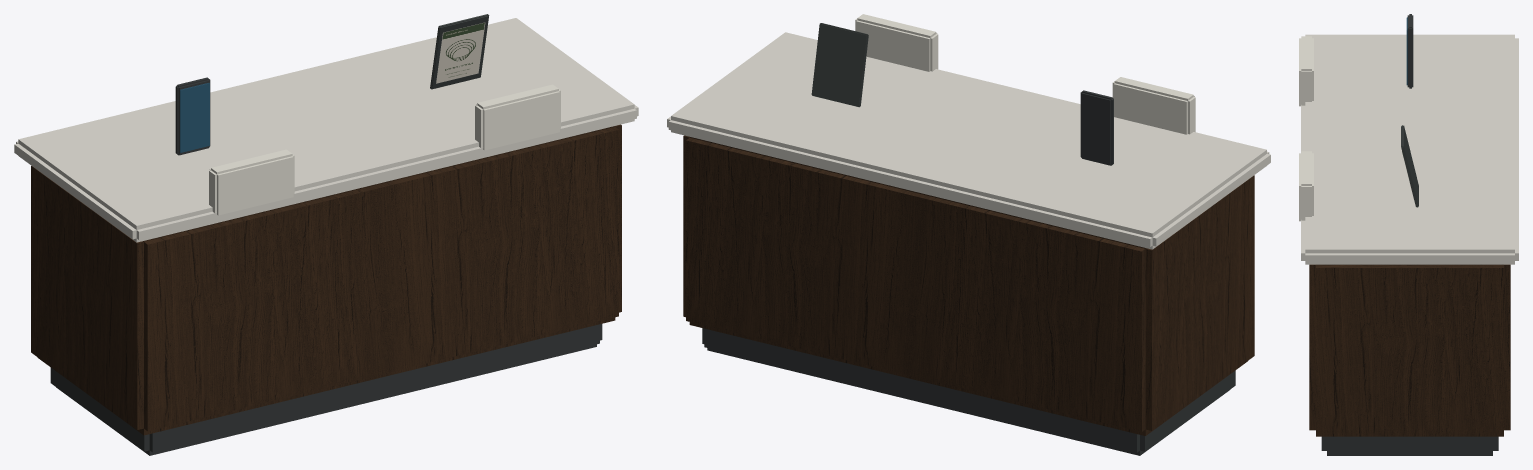
File: compact_mobile_v294.glb
3 views of the same model, side by side, from view 1: azimuth 30°, elevation 25°; view 2: azimuth 150°, elevation 25°; view 3: azimuth 270°, elevation 25° (orthographic). The views are drawn at different scales.
Visible parts, largest first — view 1: compact_mobile_v294_CC0_Smoked_walnut, compact_mobile_v294_Honed_solid_surface, compact_mobile_v294_Anodised_graphite, compact_mobile_v294_Paper_page_edges, compact_mobile_v294_V23_original_editorial, compact_mobile_v294_FY21_display_screen, compact_mobile_v294_V23_ceramic_graphite, compact_mobile_v294_Anodised_graphite.003; view 2: compact_mobile_v294_CC0_Smoked_walnut, compact_mobile_v294_Honed_solid_surface, compact_mobile_v294_Anodised_graphite, compact_mobile_v294_Paper_page_edges, compact_mobile_v294_V23_ceramic_graphite, compact_mobile_v294_Anodised_graphite.003; view 3: compact_mobile_v294_Honed_solid_surface, compact_mobile_v294_CC0_Smoked_walnut, compact_mobile_v294_Anodised_graphite, compact_mobile_v294_Paper_page_edges, compact_mobile_v294_V23_ceramic_graphite, compact_mobile_v294_Anodised_graphite.003.
Boxes of the visible parts, x1,y1,x2,y2 form: compact_mobile_v294_CC0_Smoked_walnut: (31,124,621,435); compact_mobile_v294_Honed_solid_surface: (14,18,638,242); compact_mobile_v294_Anodised_graphite: (50,324,602,455); compact_mobile_v294_Paper_page_edges: (209,84,560,215); compact_mobile_v294_V23_original_editorial: (436,22,485,83); compact_mobile_v294_FY21_display_screen: (180,83,209,152); compact_mobile_v294_V23_ceramic_graphite: (430,14,489,89); compact_mobile_v294_Anodised_graphite.003: (175,77,210,155); compact_mobile_v294_CC0_Smoked_walnut: (683,135,1254,435); compact_mobile_v294_Honed_solid_surface: (667,32,1270,249); compact_mobile_v294_Anodised_graphite: (702,328,1235,455); compact_mobile_v294_Paper_page_edges: (855,14,1195,134); compact_mobile_v294_V23_ceramic_graphite: (811,23,868,107); compact_mobile_v294_Anodised_graphite.003: (1080,90,1113,165); compact_mobile_v294_Honed_solid_surface: (1301,34,1518,264); compact_mobile_v294_CC0_Smoked_walnut: (1309,264,1510,436); compact_mobile_v294_Anodised_graphite: (1321,436,1498,455); compact_mobile_v294_Paper_page_edges: (1299,36,1313,221); compact_mobile_v294_V23_ceramic_graphite: (1401,125,1418,207); compact_mobile_v294_Anodised_graphite.003: (1407,14,1413,88).
Size of the model in its own units: 1.9 by 1.14 by 0.8075.
8 materials, 2 textured.
